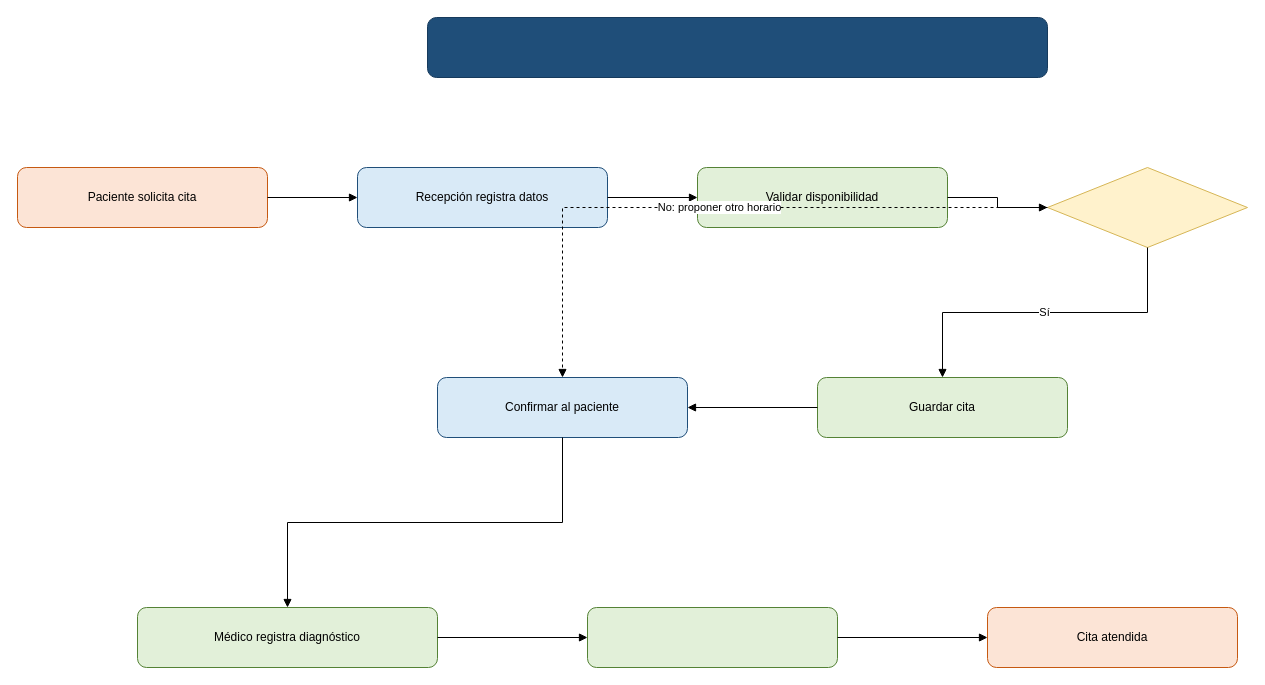
This 1265x685 diagram has some shape labels left out. Here are the shapes that lost their labels. From the top down, the box of each, then its label:
(426, 16, 1048, 78): Vista de procesos: programar y atender cita
(1046, 166, 1248, 248): ¿Disponible?
(586, 606, 838, 668): Registrar cobro
